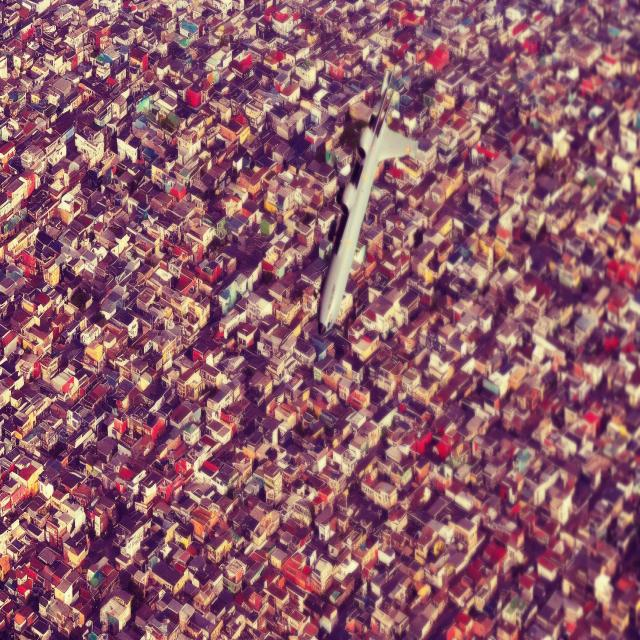airplane: (316, 66, 419, 336)
